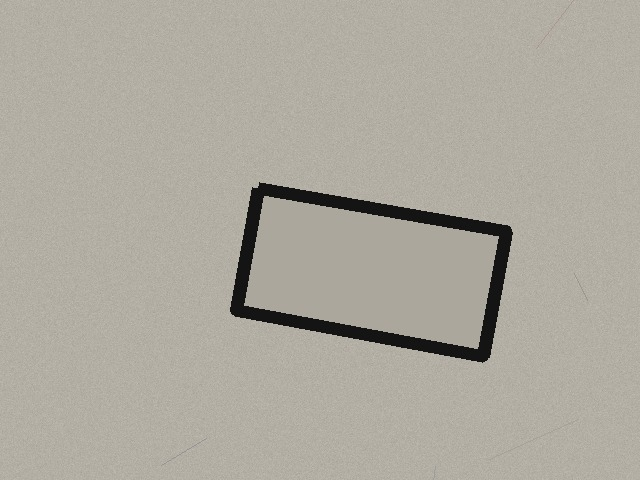parking_area: (236, 188, 506, 356)
